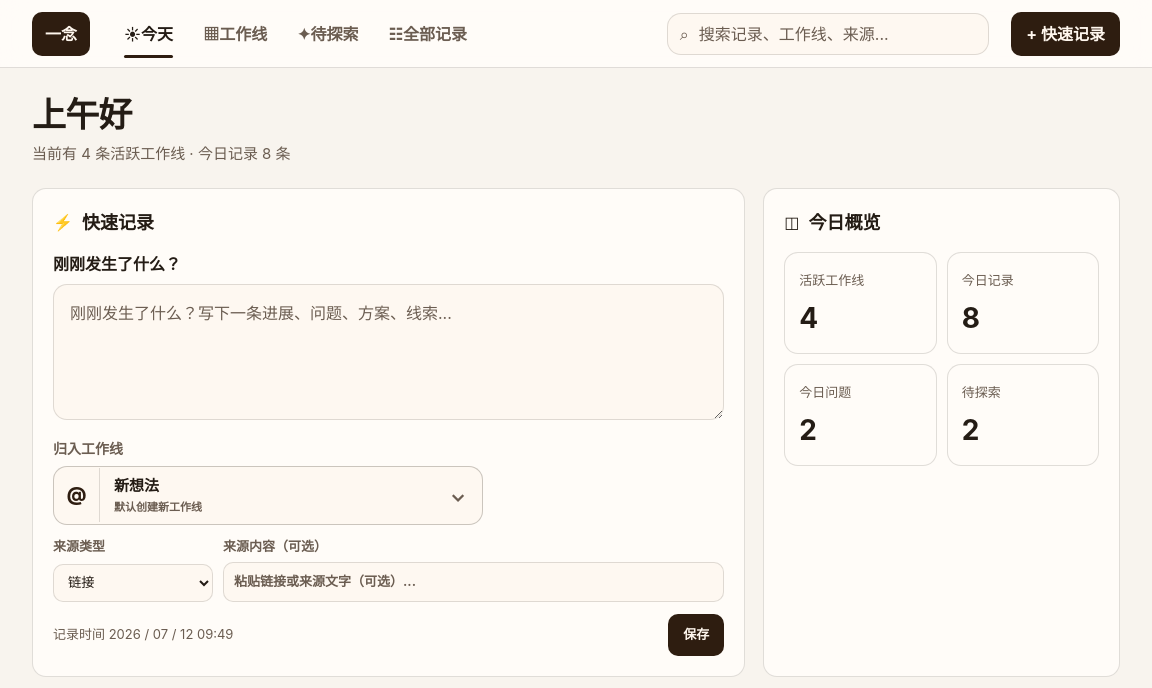
Test case: Yinian six-page product shell › opens a workline progress detail without chain controls
This screenshot has width=1152, height=688.
Check: the heading "上午好" is shown, box [32, 94, 132, 135]
Click the button "▦工作线".
click(235, 34)  # box [191, 10, 279, 58]
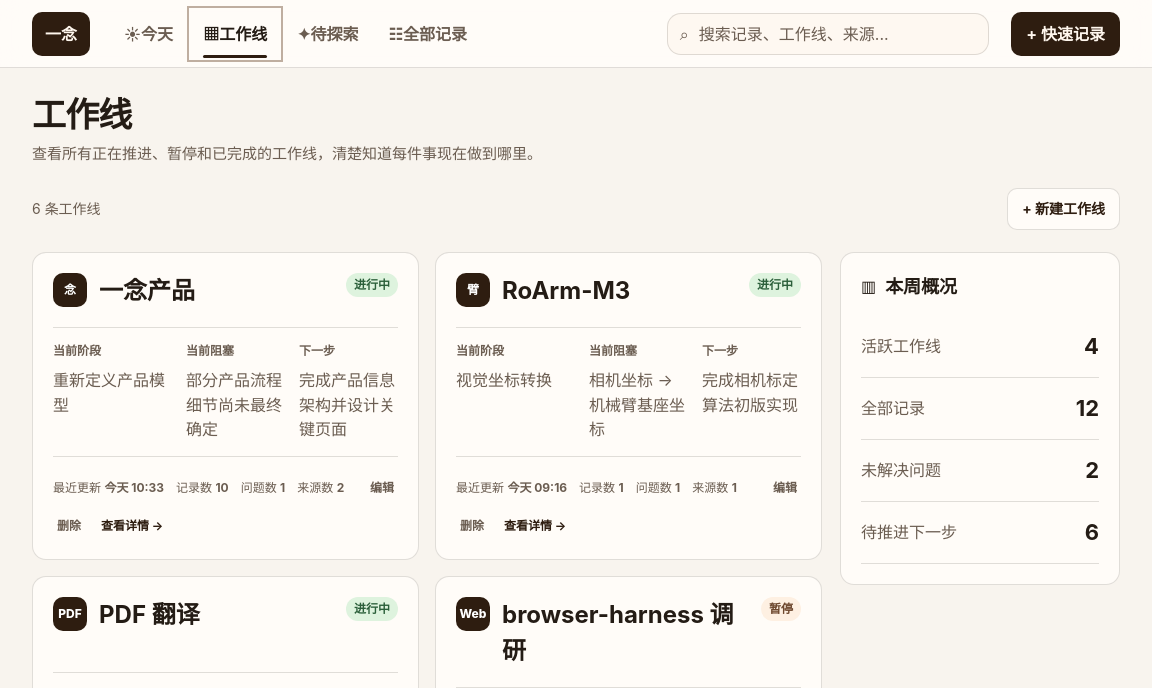
Click the button with aria-label "查看一念产品详情".
click(132, 526)  # box [97, 513, 167, 539]
(page scrolled)
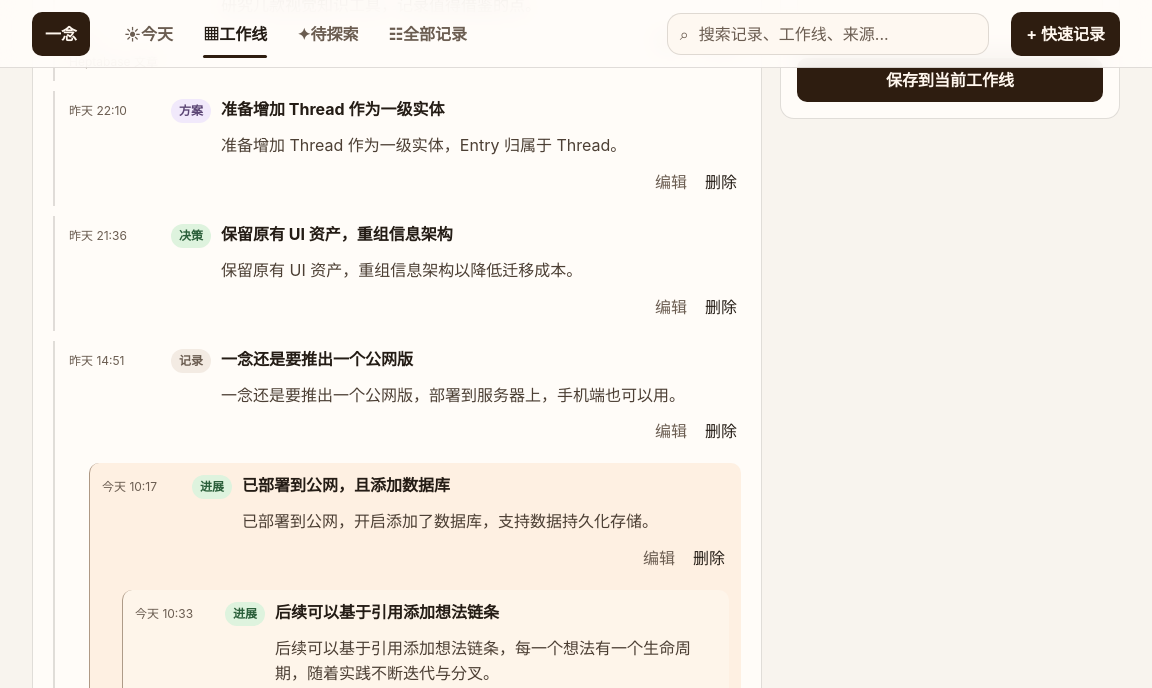
Check: the text "昨天 14:51" is shown, box [69, 353, 124, 368]
Check: the text "重新定义产品模型" is gone
Check: the text "完成产品信息架构并设计关键页面" is gone
